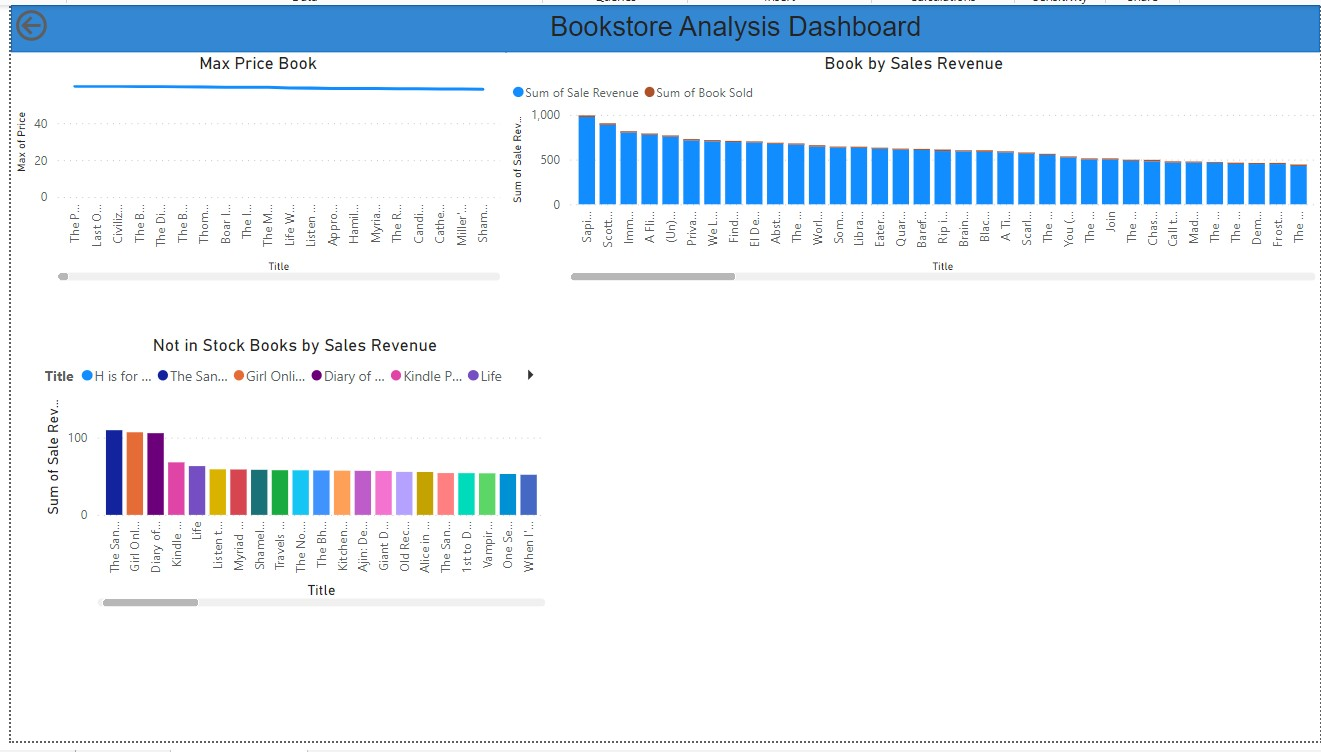

The page's visual inventory and layout, read from the dashboard file:
{"tool":"powerbi","page":{"name":"Analysis Pt 2","canvas":[1280,720],"ordinal":1},"visuals":[{"type":"shape","box":[0,0,1279.9,46.5],"z":0},{"type":"textbox","box":[511.9,1.4,393.5,45.1],"z":1000},{"type":"lineChart","title":"Max Price Book ","fields":{"Category":["bookstore.Title"],"Y":["Max(bookstore.Price)"]},"box":[0,46.5,483.2,228.2],"z":2000},{"type":"actionButton","box":[0,0,100,40],"z":3000},{"type":"columnChart","title":"Book by Sales Revenue","fields":{"Category":["bookstore.Title"],"Y":["Sum(bookstore.Sale Revenue)","Sum(bookstore.Book Sold )"]},"box":[485.2,46.5,795.4,228.5],"z":4000},{"type":"columnChart","fields":{"Category":["bookstore.Title"],"Y":["Sum(bookstore.Sale Revenue)"],"Series":["bookstore.Title"]},"box":[28.2,323,483.7,228.5],"z":5000}]}

Visuals, with their boxes on the page's 1280x720 design canvas (x1, y1, x2, y2). These are canvas units, not pixel positions in the 1321x752 screenshot, which may show the page scaled, cropped or inside an application window:
shape: BBox(0, 0, 1280, 46)
textbox: BBox(512, 1, 905, 46)
"Max Price Book " lineChart: BBox(0, 46, 483, 275)
actionButton: BBox(0, 0, 100, 40)
"Book by Sales Revenue" columnChart: BBox(485, 46, 1281, 275)
columnChart - bookstore.Title x Sum(bookstore.Sale Revenue): BBox(28, 323, 512, 552)
